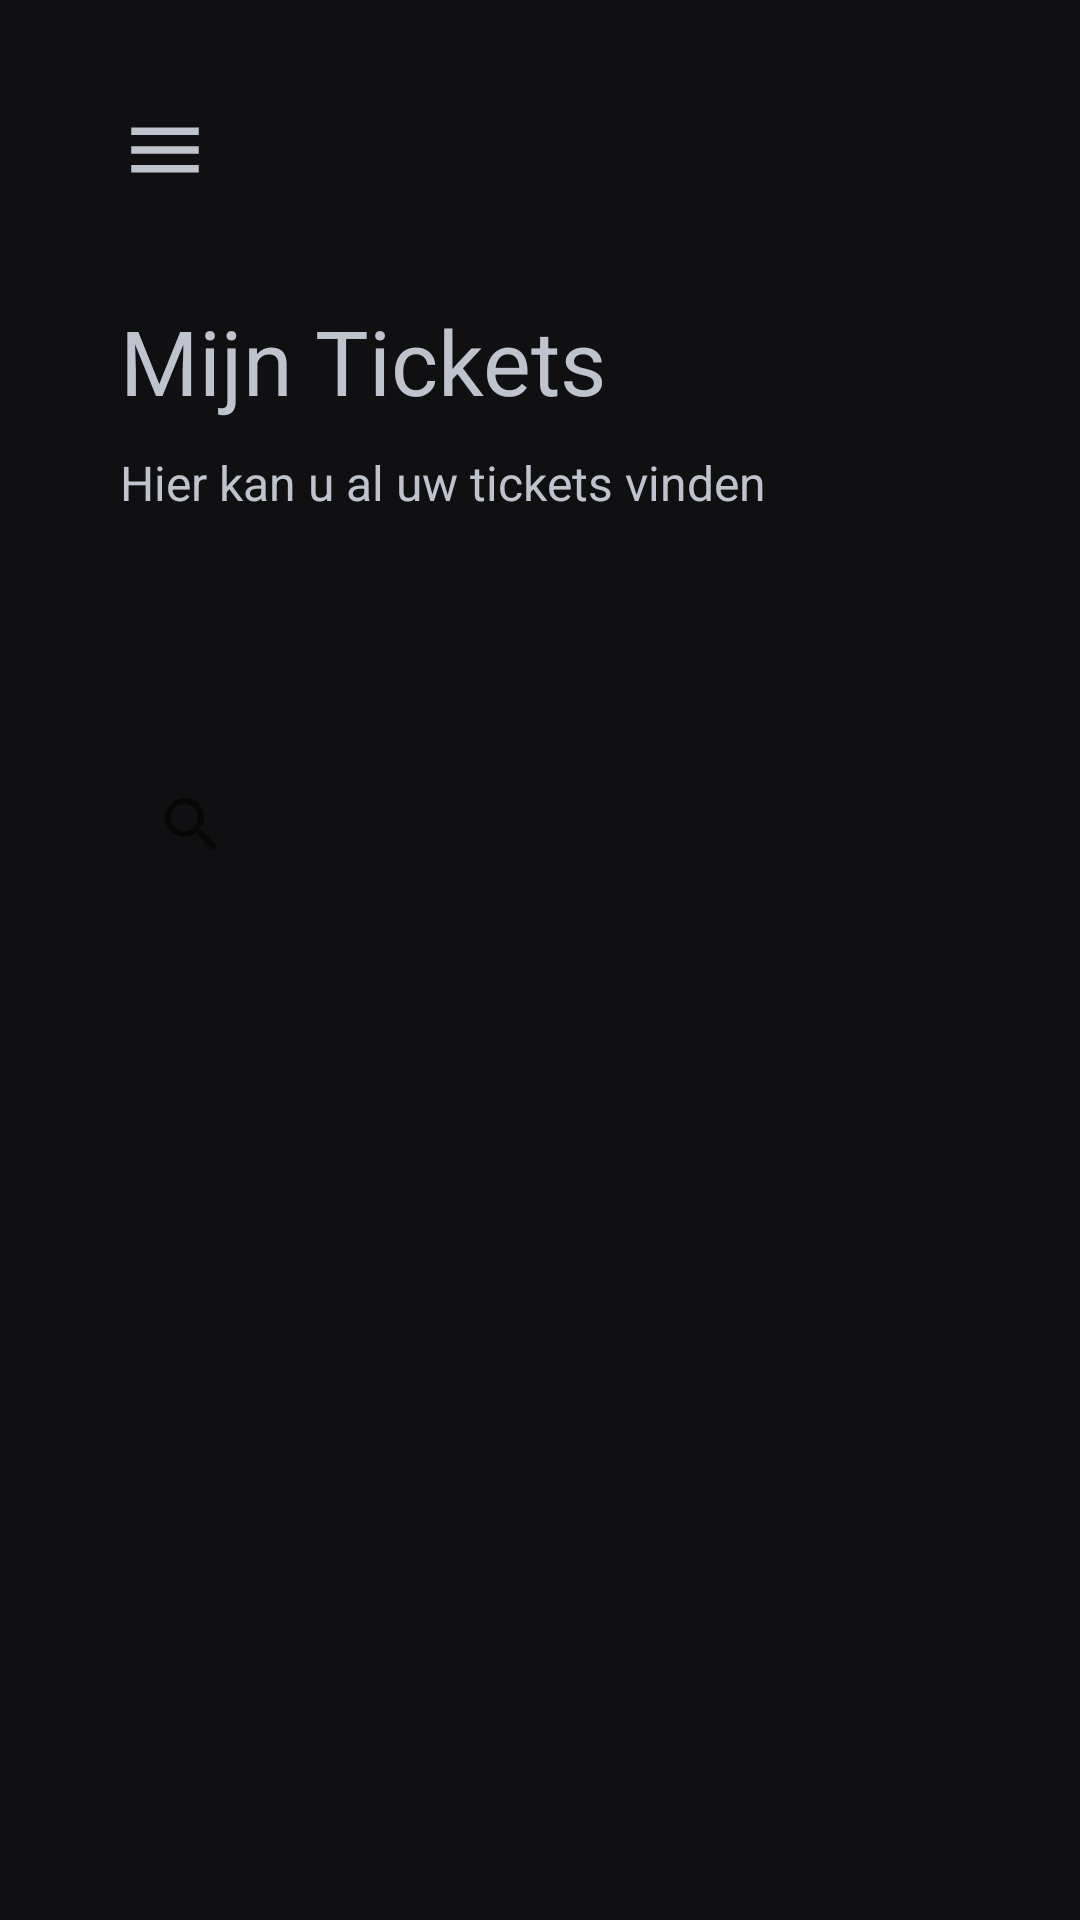

Icon bounding boxes for this 1080x1920 phone screenshot, format (x1, y1, x2, y2):
menu: (131, 127, 199, 173)
